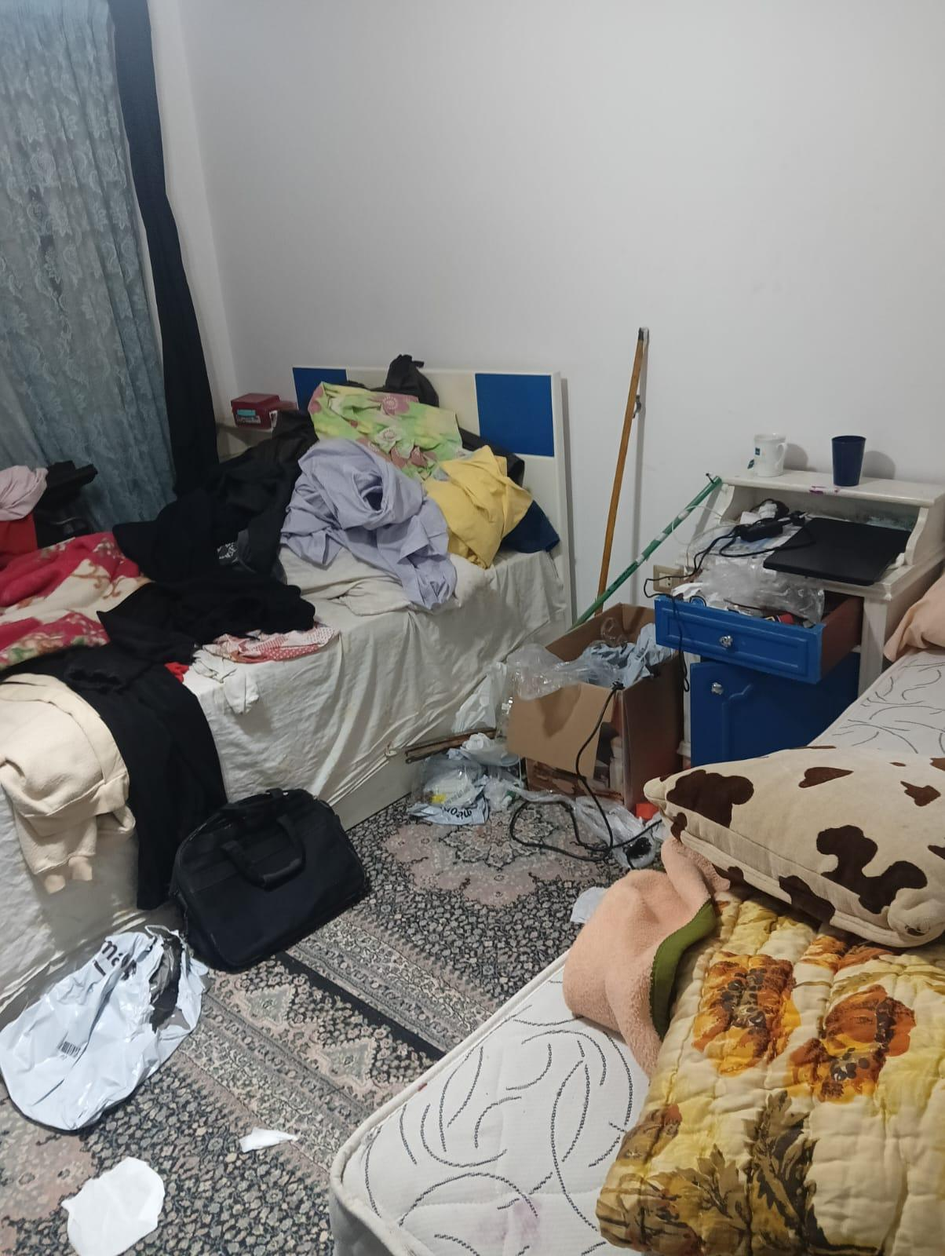cup: (832, 435, 864, 486), (753, 434, 786, 476)
